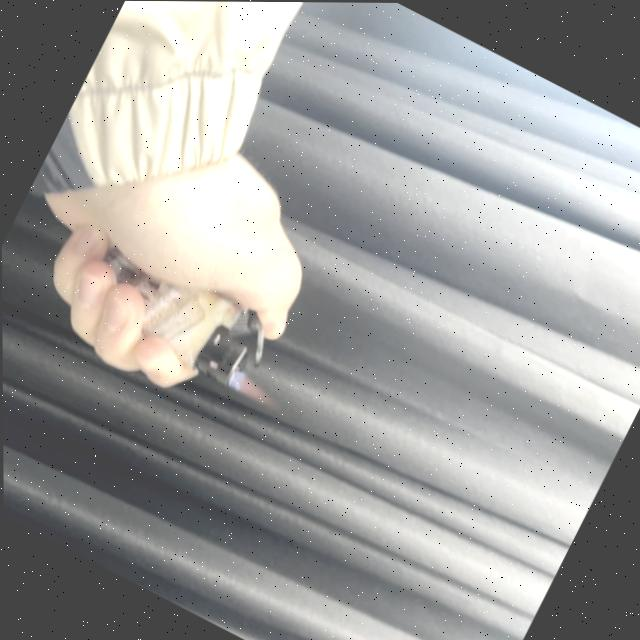Fire: (223, 365, 282, 414)
